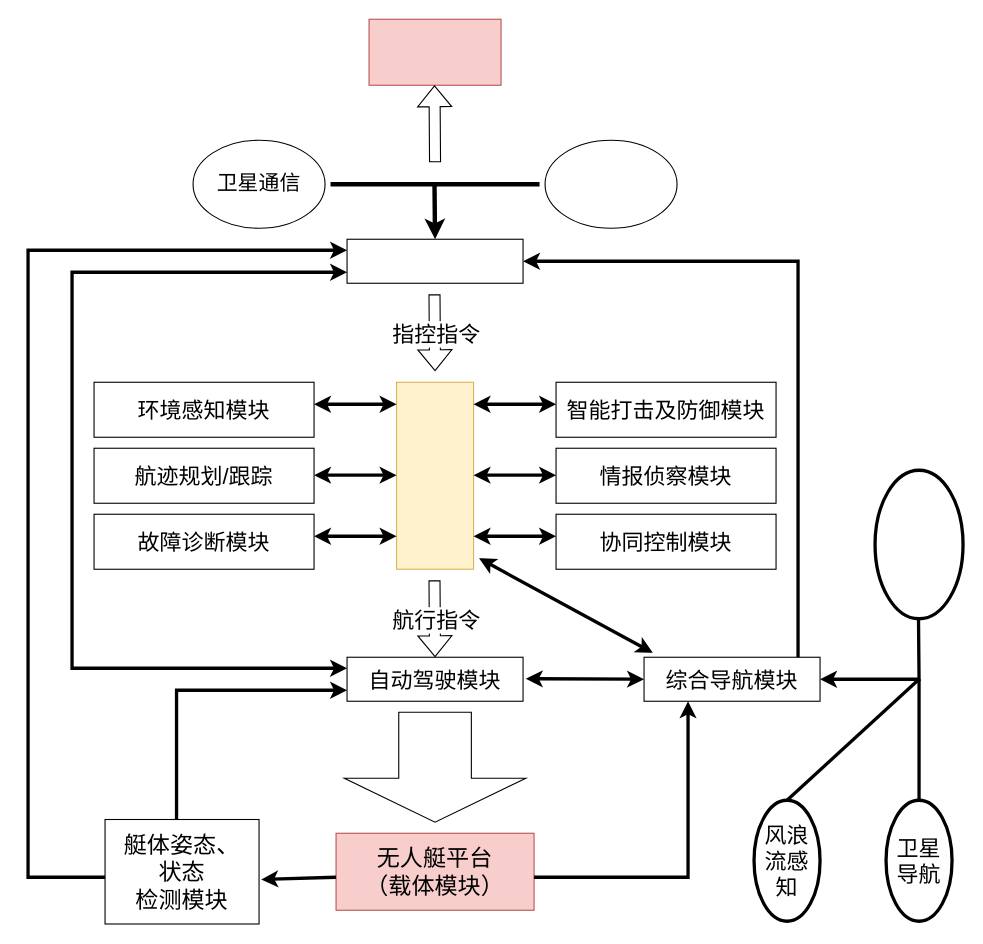
Image size: 983x944. Some labels were removed from this diagram. Here are the shapes that lost their labels. From the top down, the box of each, then its label:
(368, 18, 501, 85): 监控站
(544, 139, 677, 228): 无线电通信
(346, 238, 523, 283): 远程通信模块
(395, 381, 474, 569): 智能控制
(873, 468, 964, 620): 电子海图数据库
(343, 711, 526, 822): 动力/操纵模块
